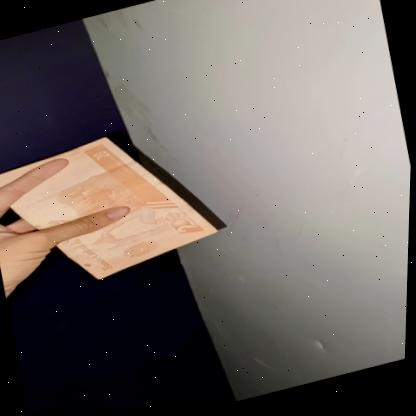twenty-back-vef: (0, 113, 226, 304)
